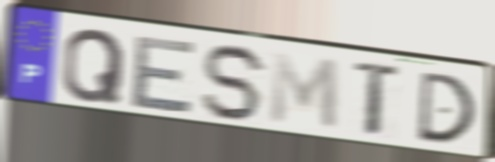D: (414, 69, 479, 145)
E: (127, 34, 200, 116)
M: (267, 49, 340, 134)
Q: (59, 26, 127, 105)
S: (201, 42, 272, 124)
T: (351, 58, 405, 140)
